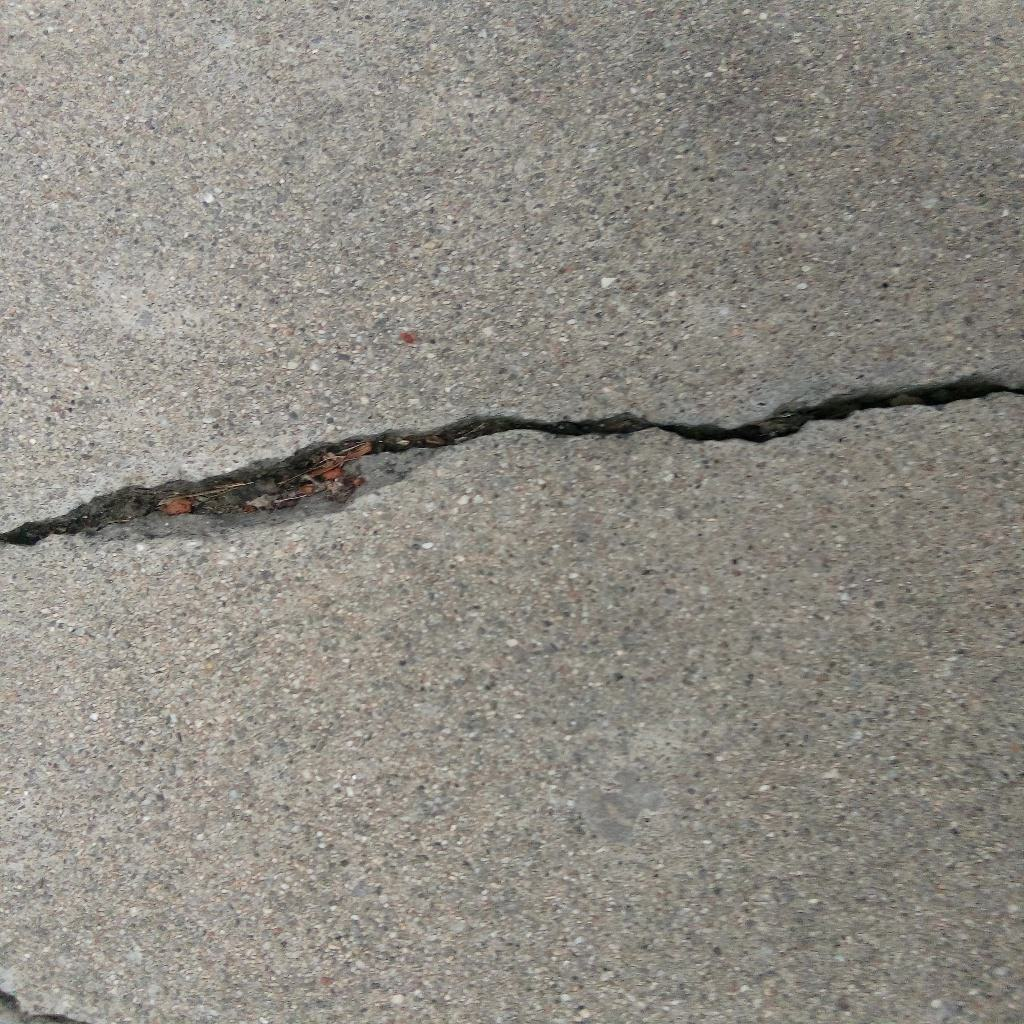Crack: (1, 372, 1024, 548)
